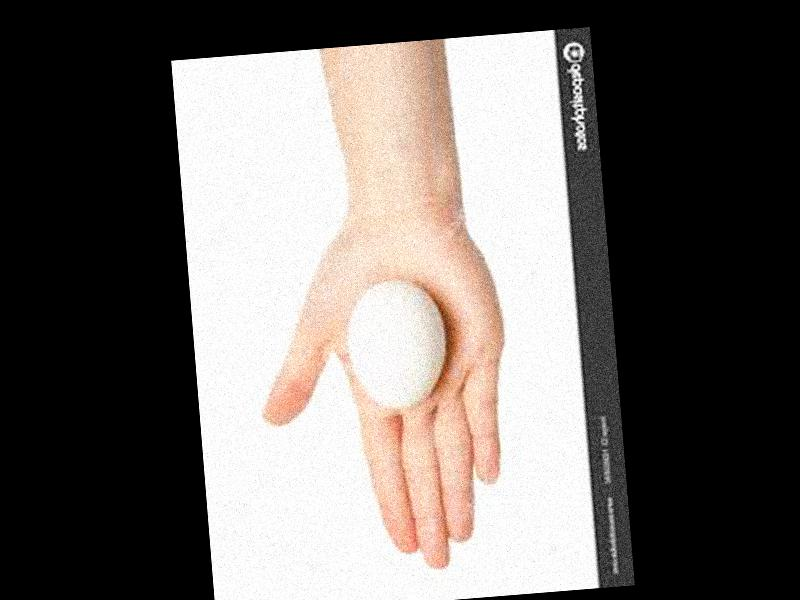Eggs: (346, 278, 446, 412)
